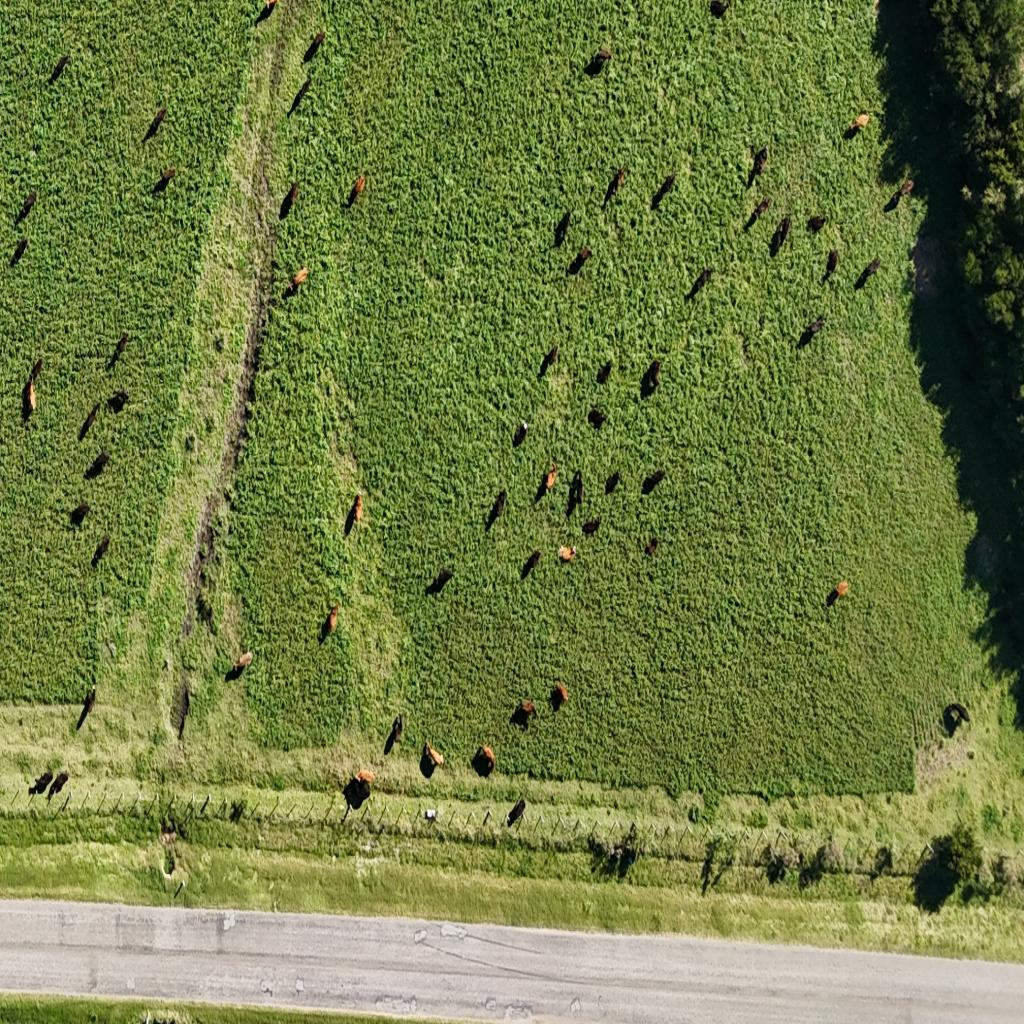cow: (699, 843, 721, 893), (345, 773, 372, 811), (885, 178, 914, 212), (766, 849, 790, 885), (289, 76, 311, 115), (944, 703, 971, 733), (486, 490, 506, 530), (652, 172, 674, 208), (856, 258, 881, 289), (144, 106, 166, 141), (689, 267, 713, 299), (772, 216, 792, 254), (585, 48, 612, 76), (79, 402, 100, 438), (85, 450, 110, 480), (872, 846, 894, 880), (511, 700, 537, 728), (15, 191, 36, 225), (304, 30, 326, 62), (567, 470, 583, 514), (473, 745, 495, 777), (607, 165, 626, 202), (749, 145, 768, 182), (641, 360, 661, 394), (198, 593, 215, 632), (280, 182, 298, 218), (254, 0, 278, 27), (569, 246, 592, 274), (109, 334, 129, 366), (80, 686, 96, 726), (506, 795, 526, 826), (554, 210, 571, 246), (178, 688, 190, 739), (521, 549, 541, 579), (348, 173, 366, 206), (540, 342, 558, 374), (154, 167, 176, 193), (827, 579, 849, 605), (50, 55, 70, 83), (49, 770, 69, 798), (642, 470, 665, 494), (432, 568, 454, 593), (749, 198, 770, 224), (803, 316, 825, 340), (536, 470, 552, 503), (620, 842, 637, 873), (32, 770, 53, 795), (92, 536, 110, 564), (70, 502, 90, 527), (824, 248, 839, 281), (108, 390, 130, 412), (848, 112, 870, 134), (11, 237, 28, 265), (290, 267, 308, 293), (197, 542, 209, 581), (512, 420, 528, 448), (229, 797, 246, 823), (158, 824, 177, 847), (588, 407, 606, 430), (552, 682, 569, 706), (253, 343, 265, 377), (582, 516, 602, 536), (29, 357, 43, 385), (596, 360, 612, 384), (391, 714, 403, 746), (710, 0, 730, 19), (234, 650, 252, 671), (327, 603, 339, 634), (806, 215, 826, 233), (546, 462, 558, 491), (26, 378, 36, 412), (605, 471, 620, 493), (352, 493, 362, 524), (645, 536, 658, 557), (1004, 578, 1016, 596), (224, 487, 234, 504), (626, 215, 634, 230), (163, 656, 170, 672)
